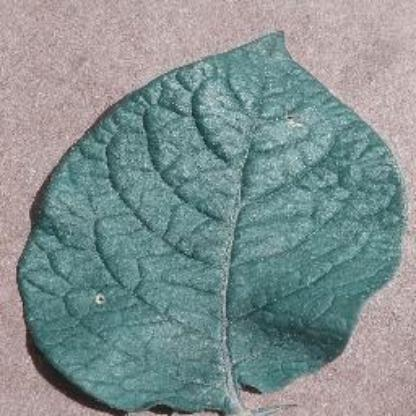Healthy-plant: (16, 35, 408, 415)
